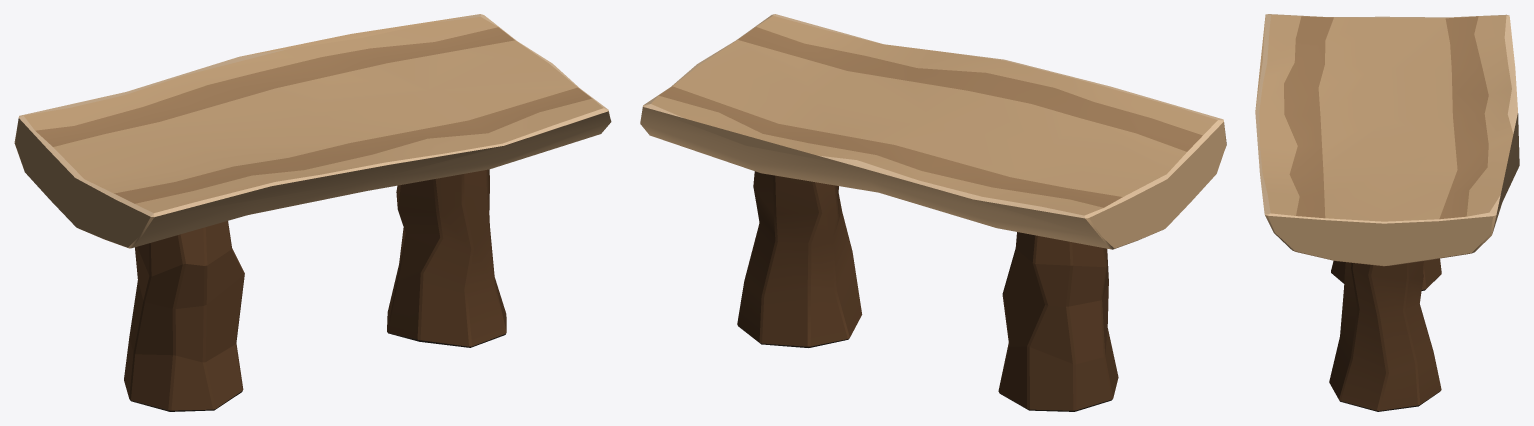
The model's file is UD_SFK_Butcher_Block.fbx.
3 views of the same model, side by side, from view 1: azimuth 30°, elevation 25°; view 2: azimuth 150°, elevation 25°; view 3: azimuth 270°, elevation 25° (orthographic). The views are drawn at different scales.
Visible parts, largest first — view 1: Butcher_Block; view 2: Butcher_Block; view 3: Butcher_Block.
Part boxes in pixels (x1,y1,x2,y2): Butcher_Block: (14, 14, 611, 411); Butcher_Block: (640, 14, 1226, 411); Butcher_Block: (1255, 14, 1519, 411).
Bounding box in the file's own units: 180 × 90.52 × 97.58.
